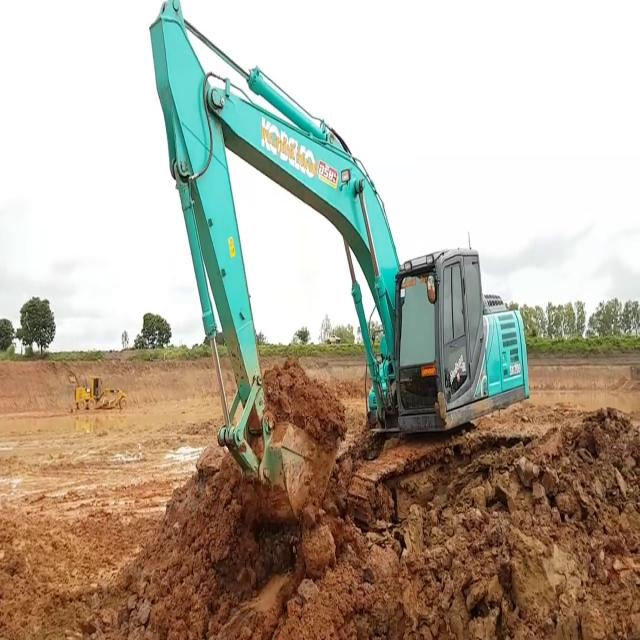excavator: (149, 1, 532, 503)
